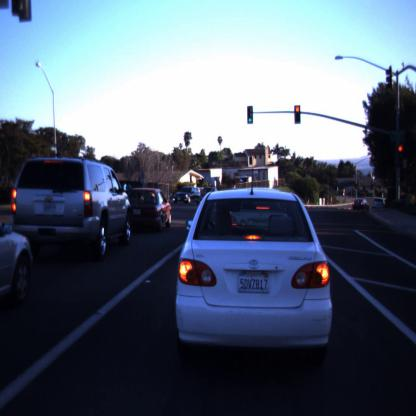trafficlight: (396, 122, 407, 161), (294, 104, 303, 129), (247, 104, 254, 128)
